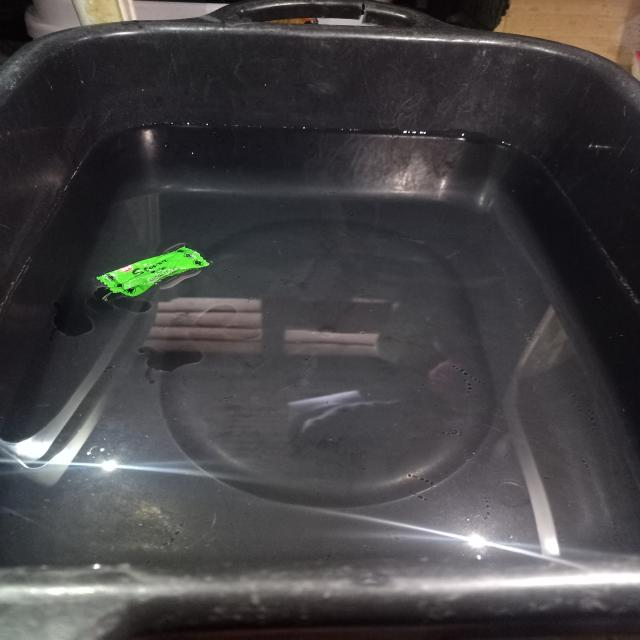Plastic Wrapper: (96, 244, 209, 300)
